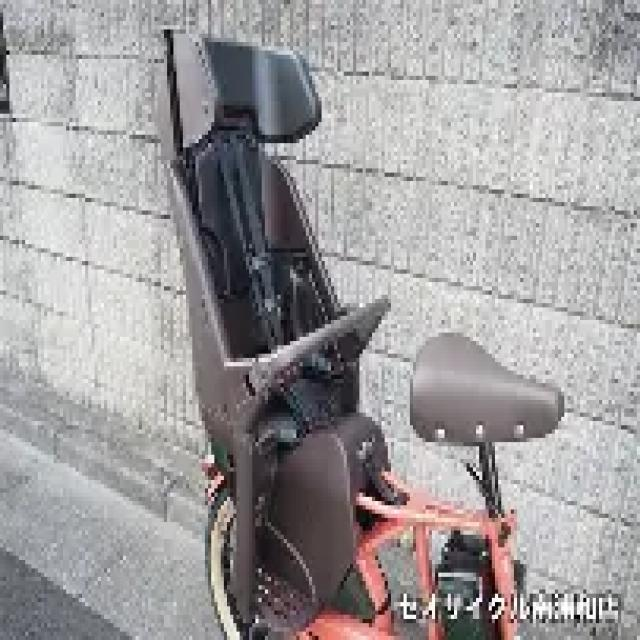childseat: (152, 18, 395, 616)
